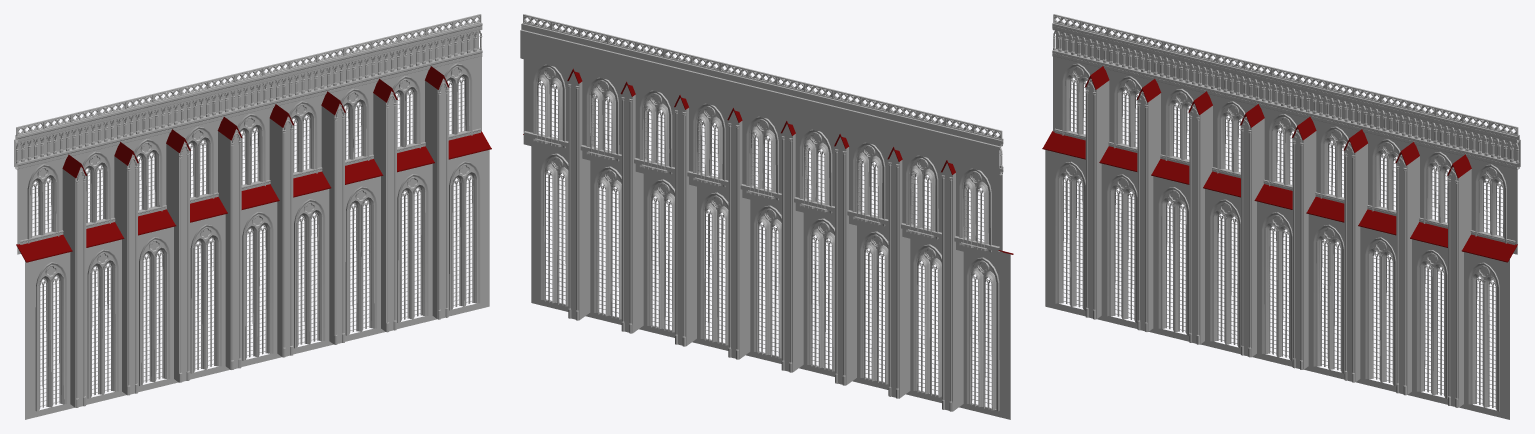
The model's file is hall_002.glb.
3 views of the same model, side by side, from view 1: azimuth 30°, elevation 25°; view 2: azimuth 150°, elevation 25°; view 3: azimuth 330°, elevation 25° (orthographic). The views are drawn at different scales.
Visible parts, largest first — view 1: hall_002; view 2: hall_002; view 3: hall_002.
Boxes of the visible parts, <box> form: hall_002: <box>14,14,491,419</box>; hall_002: <box>520,14,1013,419</box>; hall_002: <box>1042,14,1520,419</box>.
Bounding box in the file's own units: 5.9 × 3.46 × 0.3787.
